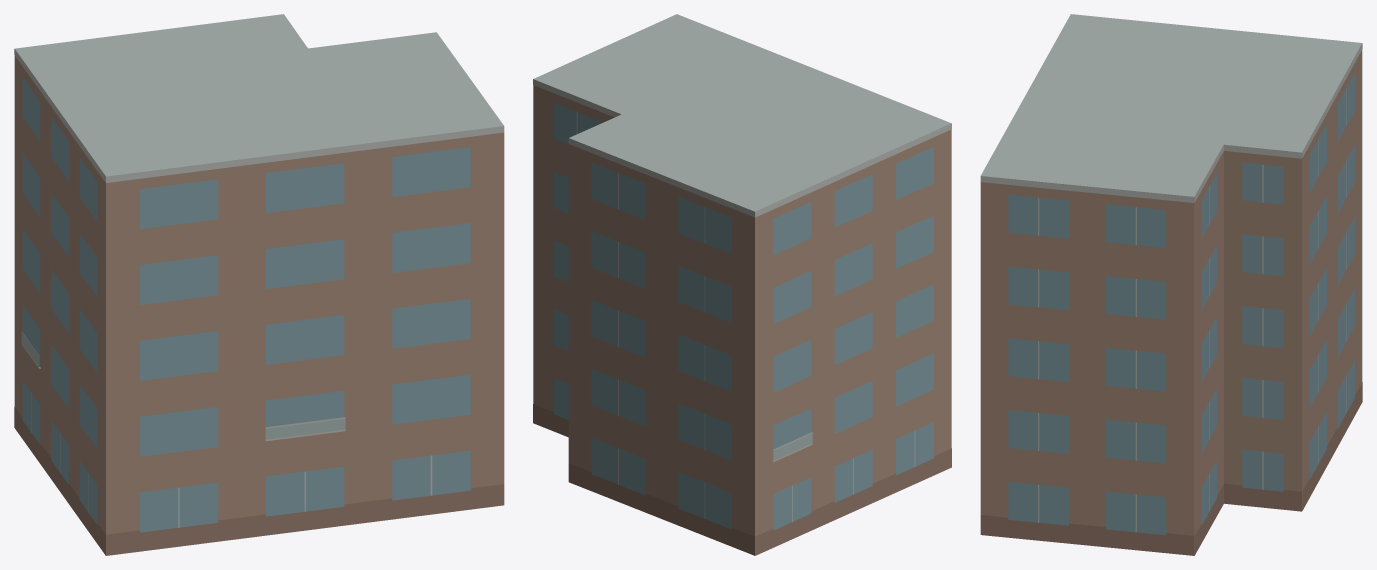
Rendered from survey-upis-32856100.glb.
3 views of the same model, side by side, from view 1: azimuth 30°, elevation 25°; view 2: azimuth 150°, elevation 25°; view 3: azimuth 270°, elevation 25° (orthographic). The views are drawn at different scales.
Visible parts, largest first — view 1: survey-upis-32856100.tmp; view 2: survey-upis-32856100.tmp; view 3: survey-upis-32856100.tmp.
Boxes of the visible parts, box(x1,y1,x2,y2) form: survey-upis-32856100.tmp: box(14, 14, 504, 555); survey-upis-32856100.tmp: box(533, 14, 951, 555); survey-upis-32856100.tmp: box(980, 14, 1362, 555).
Size of the model in its own units: 15.64 by 14.3 by 13.8.
